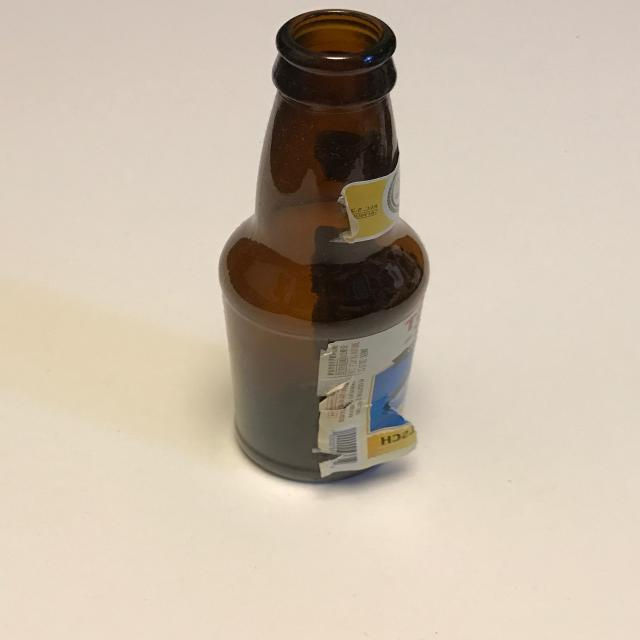glass: (218, 8, 431, 483)
